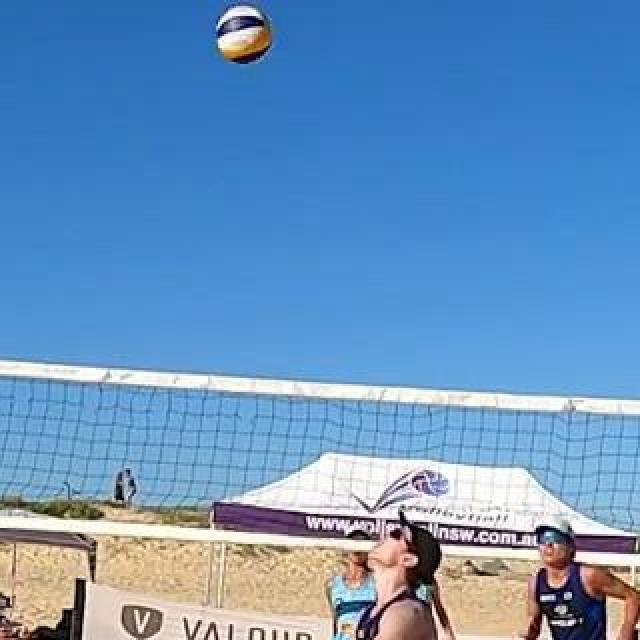volleyball: (218, 7, 272, 63)
